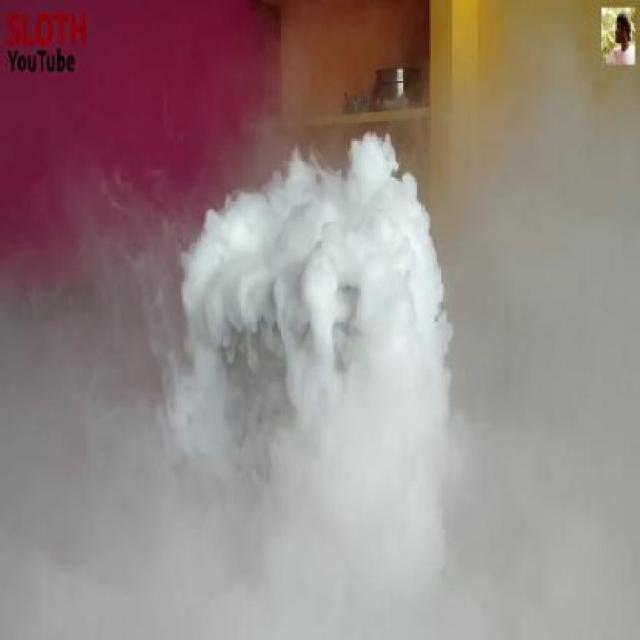smoke: (132, 106, 492, 532)
